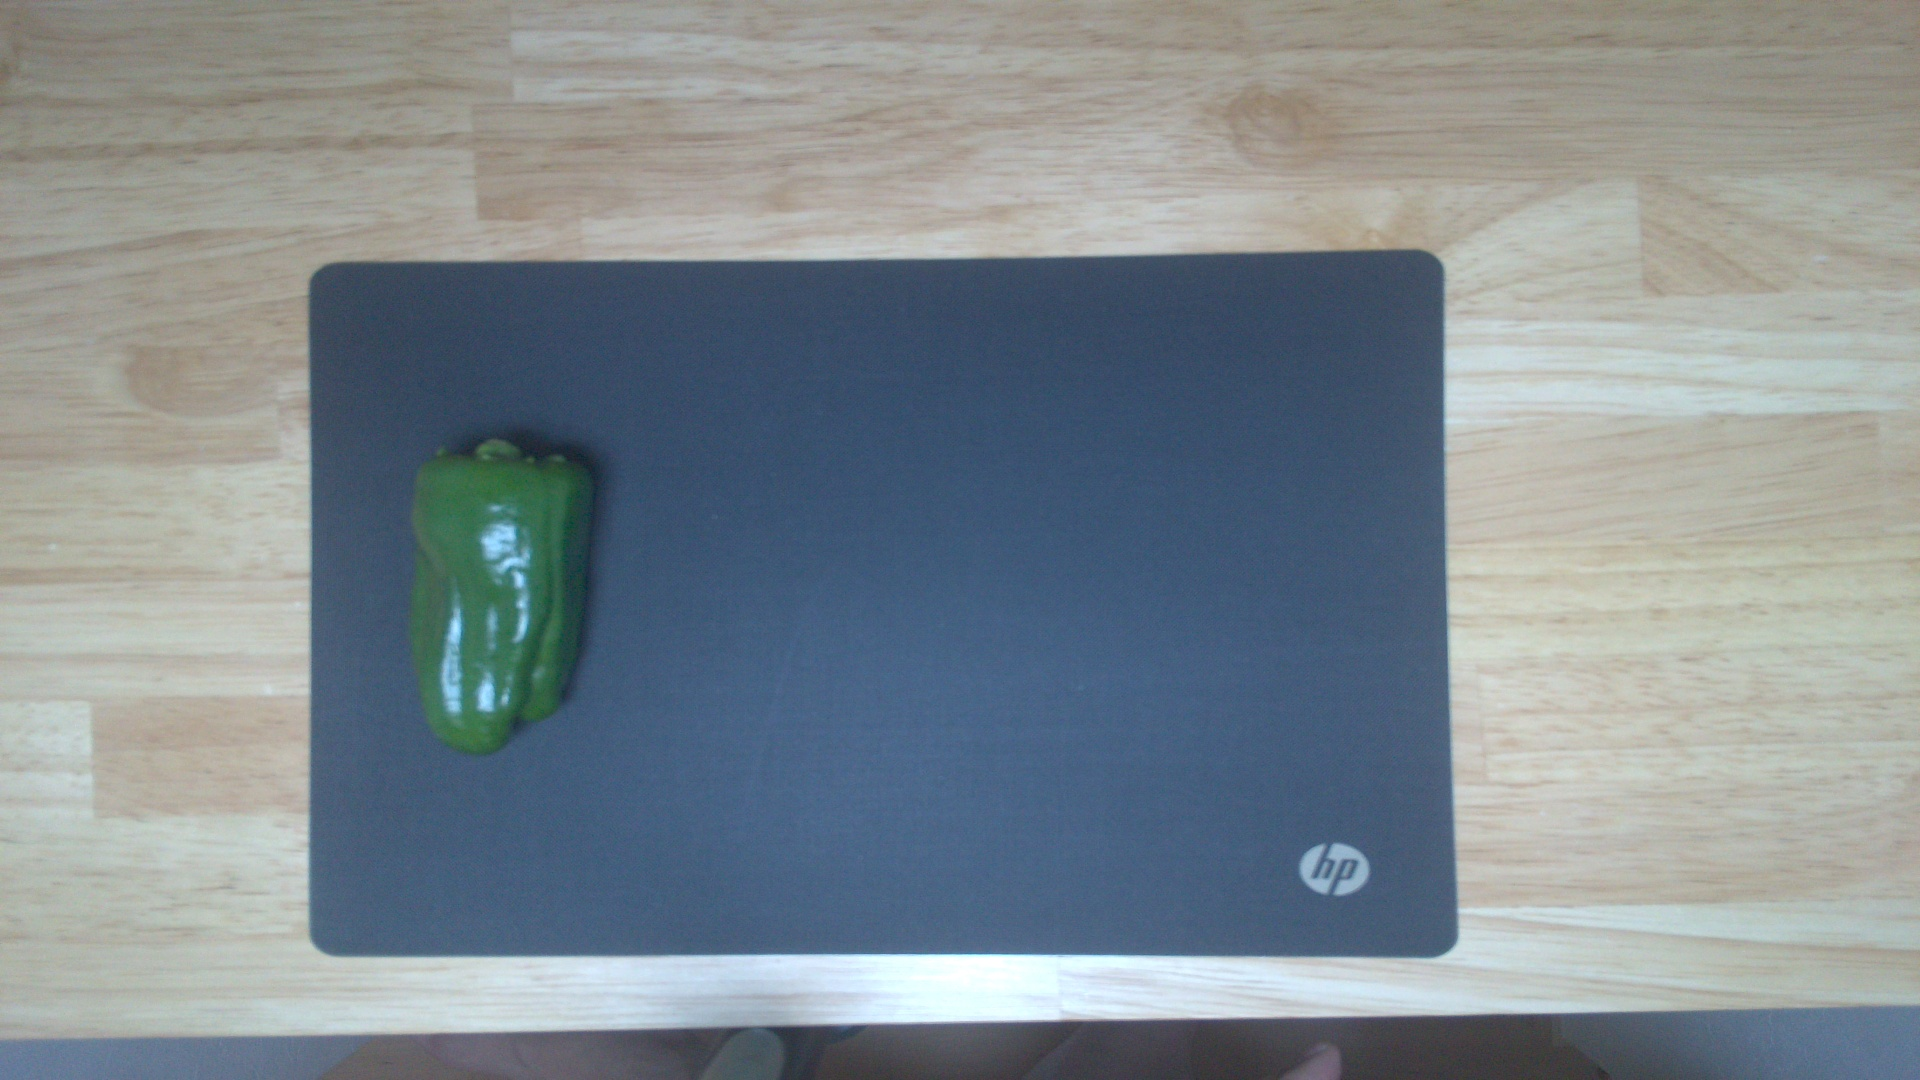Piman: (404, 436, 601, 761)
